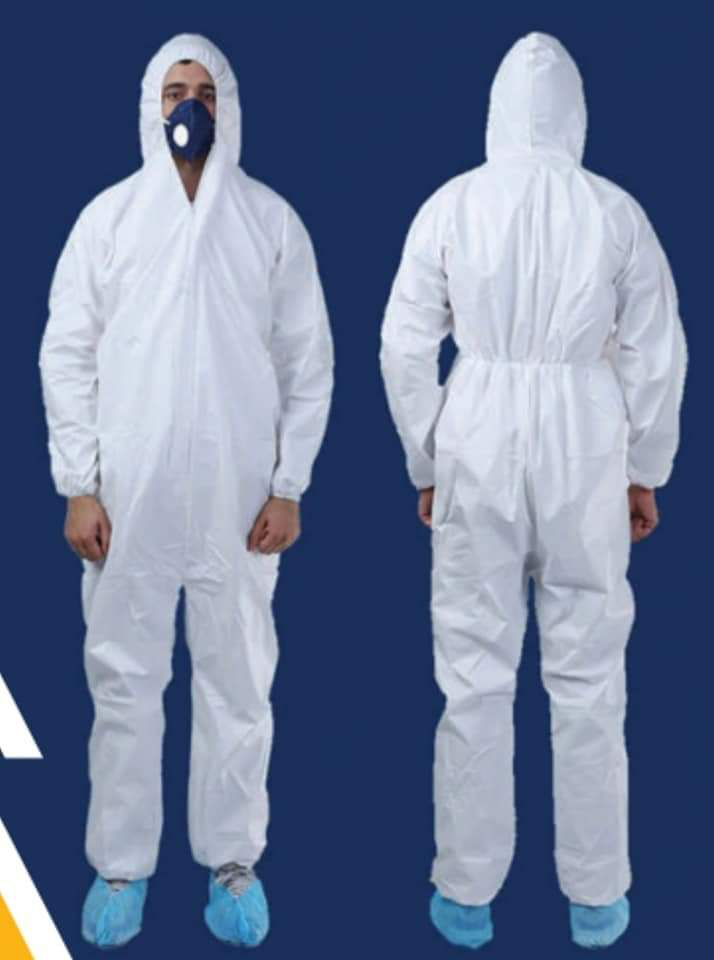Coverall: (379, 26, 687, 896), (42, 32, 327, 868)
with_mask: (154, 79, 230, 161)
